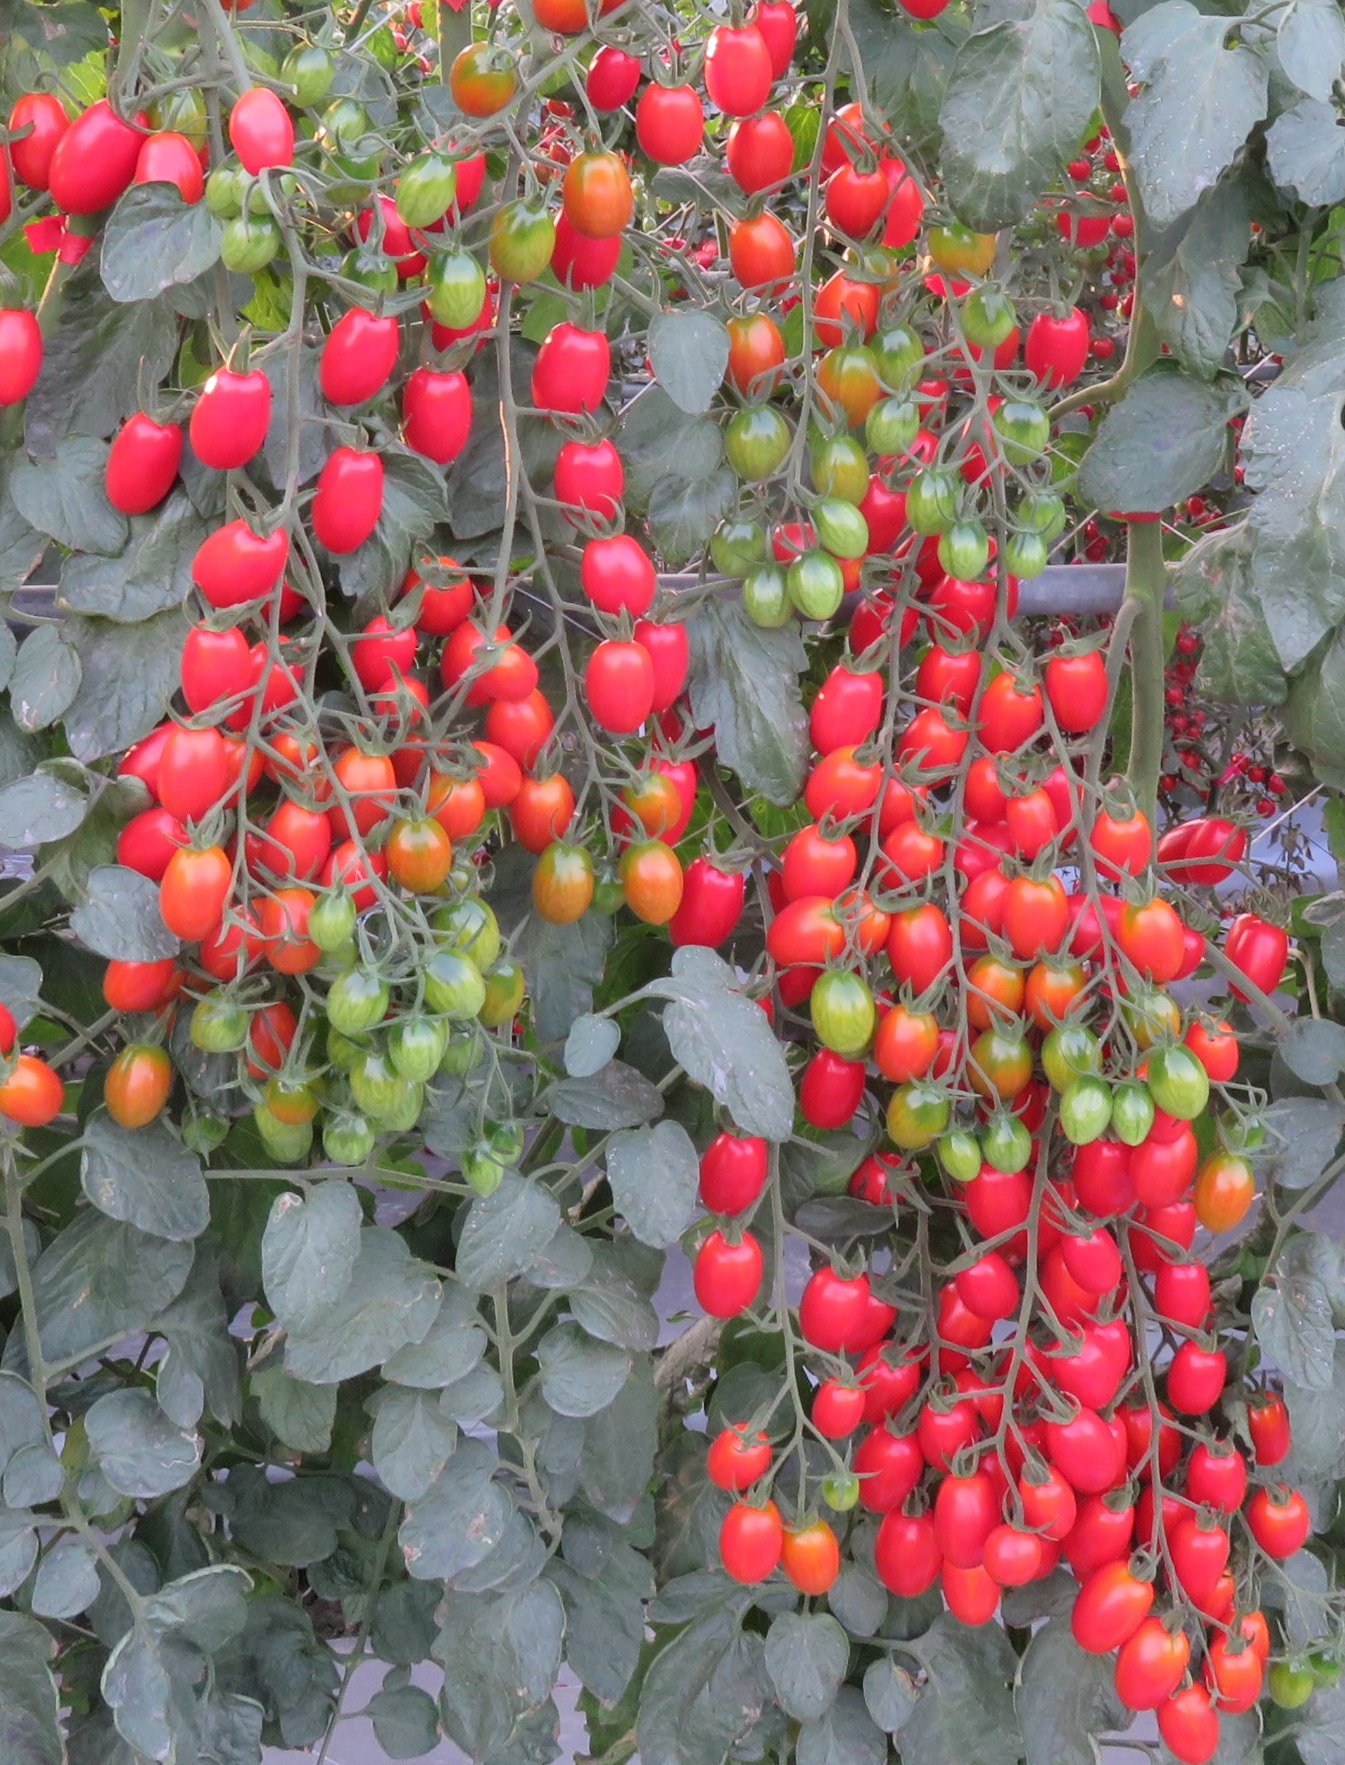green: (728, 401, 810, 493), (485, 206, 562, 297), (445, 42, 530, 124), (810, 972, 882, 1058), (420, 242, 485, 332), (249, 1088, 315, 1166), (1144, 1041, 1208, 1122), (326, 962, 390, 1043), (422, 943, 487, 1020), (394, 153, 456, 233), (884, 1090, 954, 1159), (964, 1027, 1030, 1099), (1036, 1022, 1103, 1088), (903, 471, 959, 550), (815, 432, 872, 507), (704, 521, 769, 586), (278, 44, 338, 114), (305, 882, 363, 954), (805, 502, 872, 561), (1058, 1070, 1110, 1145), (786, 548, 839, 620), (958, 288, 1019, 352), (386, 1023, 446, 1087), (186, 986, 246, 1050), (212, 225, 281, 276), (740, 560, 787, 634), (930, 232, 1003, 278), (882, 324, 927, 397), (1110, 1081, 1156, 1152), (938, 524, 988, 588), (978, 1123, 1031, 1181), (321, 1115, 373, 1169), (1267, 1653, 1314, 1713), (867, 404, 910, 462), (1003, 524, 1047, 579), (463, 1147, 507, 1200), (940, 1131, 980, 1184)
orange: (155, 832, 242, 944), (612, 832, 687, 938), (103, 1041, 177, 1142), (567, 138, 632, 247), (523, 842, 599, 933), (721, 220, 795, 304), (886, 911, 956, 992), (1006, 872, 1067, 962), (1120, 899, 1181, 988), (778, 832, 859, 899), (3, 1051, 68, 1133), (764, 903, 846, 967), (513, 774, 581, 851), (875, 1000, 940, 1080), (810, 752, 882, 822), (1194, 1157, 1259, 1234), (394, 814, 451, 900), (723, 308, 783, 390), (979, 678, 1038, 757), (999, 781, 1057, 862), (966, 955, 1024, 1034), (427, 767, 487, 838), (786, 1523, 839, 1602), (1029, 962, 1092, 1025), (623, 776, 685, 834)
red: (47, 112, 143, 219), (186, 366, 274, 472), (531, 324, 619, 425), (316, 312, 405, 410), (307, 447, 386, 553), (184, 523, 287, 603), (1072, 1563, 1159, 1659), (178, 619, 253, 724), (157, 719, 230, 820), (586, 636, 657, 736), (1045, 1410, 1130, 1492), (398, 376, 478, 464), (107, 418, 179, 514), (1113, 1624, 1190, 1711), (694, 1232, 770, 1318), (706, 24, 771, 123), (718, 1499, 786, 1593), (639, 79, 706, 171), (1223, 911, 1291, 1003), (583, 540, 661, 618), (826, 158, 894, 246), (805, 670, 882, 746), (694, 1138, 771, 1212), (554, 439, 626, 520), (873, 1512, 940, 1598), (797, 1272, 867, 1352), (851, 1432, 918, 1512), (227, 90, 294, 172), (733, 112, 794, 199), (353, 612, 420, 690), (859, 1340, 921, 1422), (1027, 309, 1086, 391), (1051, 651, 1110, 733), (134, 136, 211, 199), (1153, 1258, 1215, 1335), (938, 1480, 990, 1570), (1060, 1227, 1126, 1296), (1177, 1526, 1233, 1607), (1184, 817, 1245, 890), (797, 1064, 863, 1131), (486, 697, 557, 759), (954, 1256, 1023, 1318), (1166, 1340, 1225, 1412), (1187, 1453, 1250, 1516), (1050, 1351, 1118, 1410), (583, 40, 639, 112), (1253, 1499, 1313, 1564), (1163, 1692, 1219, 1759), (1246, 1393, 1297, 1468), (4, 308, 44, 404), (1211, 1646, 1266, 1714), (807, 1383, 873, 1439), (706, 1432, 767, 1491), (1026, 1472, 1079, 1539), (979, 1532, 1037, 1584), (1060, 194, 1110, 250), (483, 650, 541, 698), (1064, 157, 1094, 179), (1112, 211, 1133, 237), (1091, 336, 1113, 359), (1253, 796, 1273, 815), (1166, 684, 1183, 704), (1248, 762, 1264, 781)
